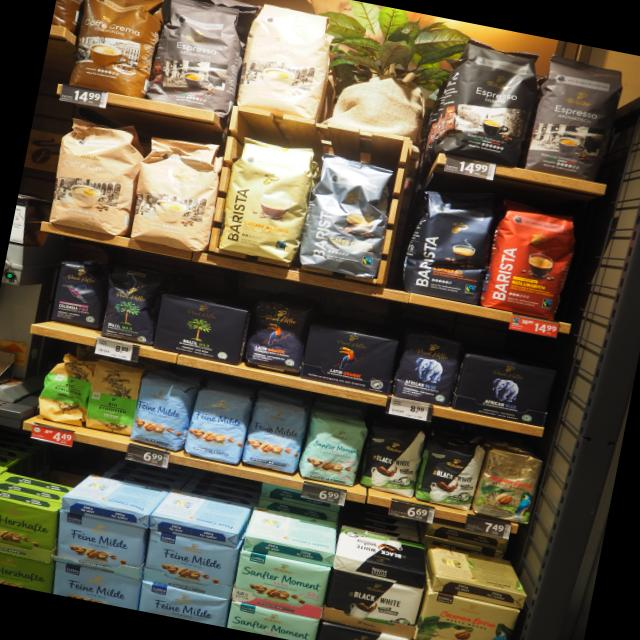AB Bohne: (392, 330, 462, 409)
AB Gemahlen: (450, 351, 558, 428)
Athiopien Bohne: (33, 348, 94, 428)
Athiopien Gemahlen: (82, 358, 147, 438)
BM Bohne: (98, 262, 164, 347)
BM Gemahlen: (149, 290, 255, 368)
BW Bohne: (414, 428, 486, 512), (356, 418, 428, 500)
BW Gemahlen: (318, 565, 426, 640), (335, 525, 426, 579), (310, 620, 414, 640)
Barista CB: (214, 130, 320, 270)
Barista CC: (298, 149, 402, 284)
Barista Espresso: (396, 184, 502, 308)
Barista Kolumbien: (478, 202, 582, 322)
C Fino Bohne: (48, 256, 112, 332)
CC Mild: (232, 0, 343, 125), (126, 128, 232, 256), (43, 114, 148, 240)
CC Vollmundig 36 Pads: (66, 0, 167, 102)
Colombia BB Bohne: (472, 438, 545, 528)
Colombia BB Gemahlen: (412, 588, 524, 640), (427, 545, 527, 597)
Espresso Aromatisch: (519, 48, 631, 186), (143, 0, 255, 121)
Espresso Kraftig: (425, 34, 544, 170)
FM Bohne: (183, 384, 254, 468), (130, 370, 197, 454), (240, 396, 310, 476)
FM Gemahlen: (48, 508, 154, 580), (139, 526, 242, 598), (45, 556, 143, 610), (63, 472, 173, 518), (148, 488, 252, 536), (134, 578, 232, 628)
Herzhatfe Mundig: (0, 482, 65, 566)
LG Bohne: (242, 296, 312, 378)
LG Gemahlen: (298, 321, 402, 395)
SM Bohne: (296, 406, 371, 491)
SM Gemahlen: (227, 548, 333, 622), (244, 506, 337, 555), (222, 599, 320, 640)
